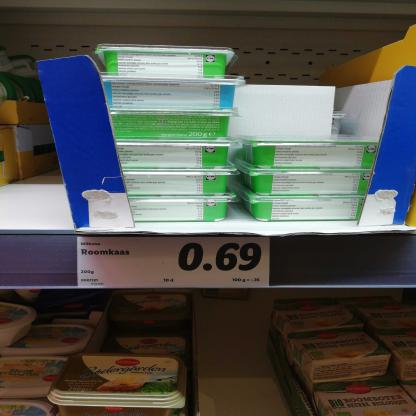prtg: (78, 238, 271, 289)
